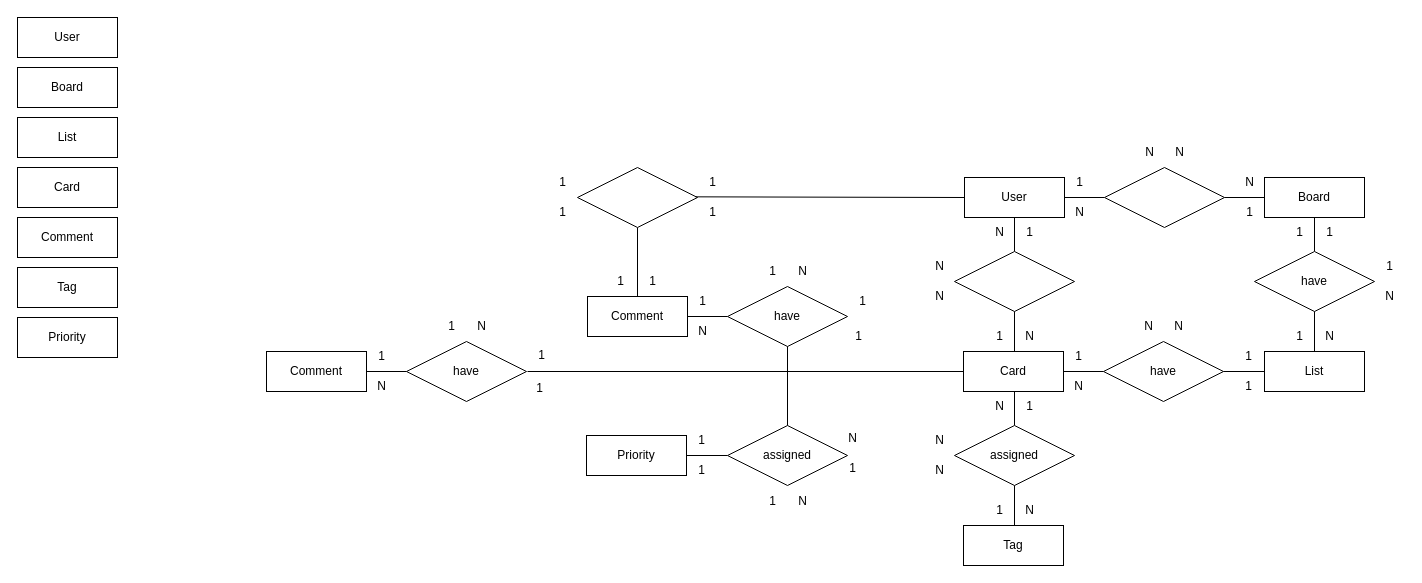
This 1422x583 diagram has some shape labels left out. The centre of each missing label's shape, as x and y in pixels:
"access" belongs at point (1164, 197).
"assigned/move" belongs at point (1014, 281).
"write" belongs at point (637, 197).
